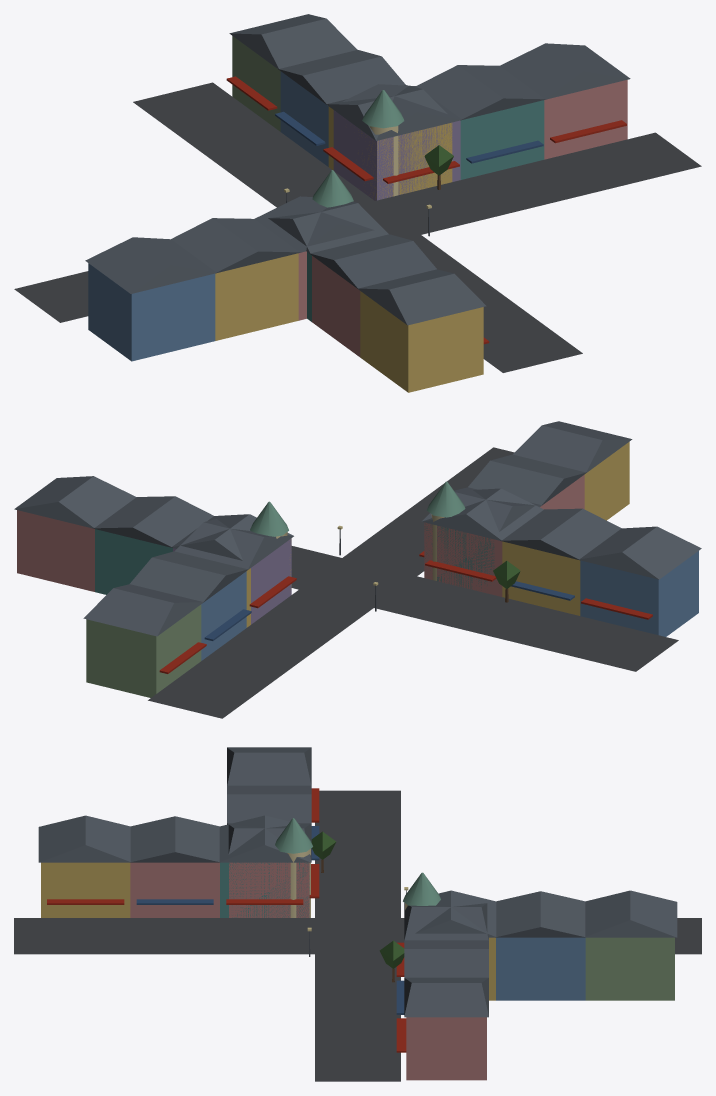
Rendered from mobile-low.glb.
3 views of the same model, one above another, from view 1: azimuth 30°, elevation 25°; view 2: azimuth 150°, elevation 25°; view 3: azimuth 270°, elevation 25° (orthographic). The views are drawn at different scales.
Parts seen in each view (by area): view 1: lm.haight-ashbury; view 2: lm.haight-ashbury; view 3: lm.haight-ashbury.
Part boxes in pixels (left/top/right/bottom): lm.haight-ashbury: left=14, top=14, right=701, bottom=392; lm.haight-ashbury: left=14, top=421, right=701, bottom=718; lm.haight-ashbury: left=14, top=747, right=701, bottom=1081.
Bounding box in the file's own units: 128 × 20.6 × 128.
